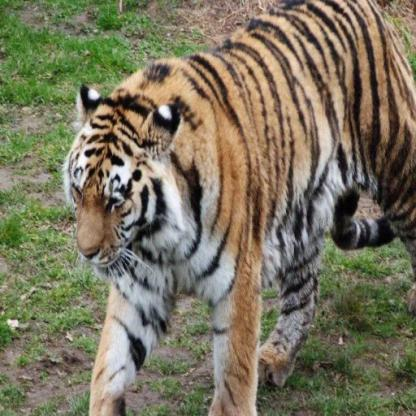Tiger: (59, 0, 415, 415)
